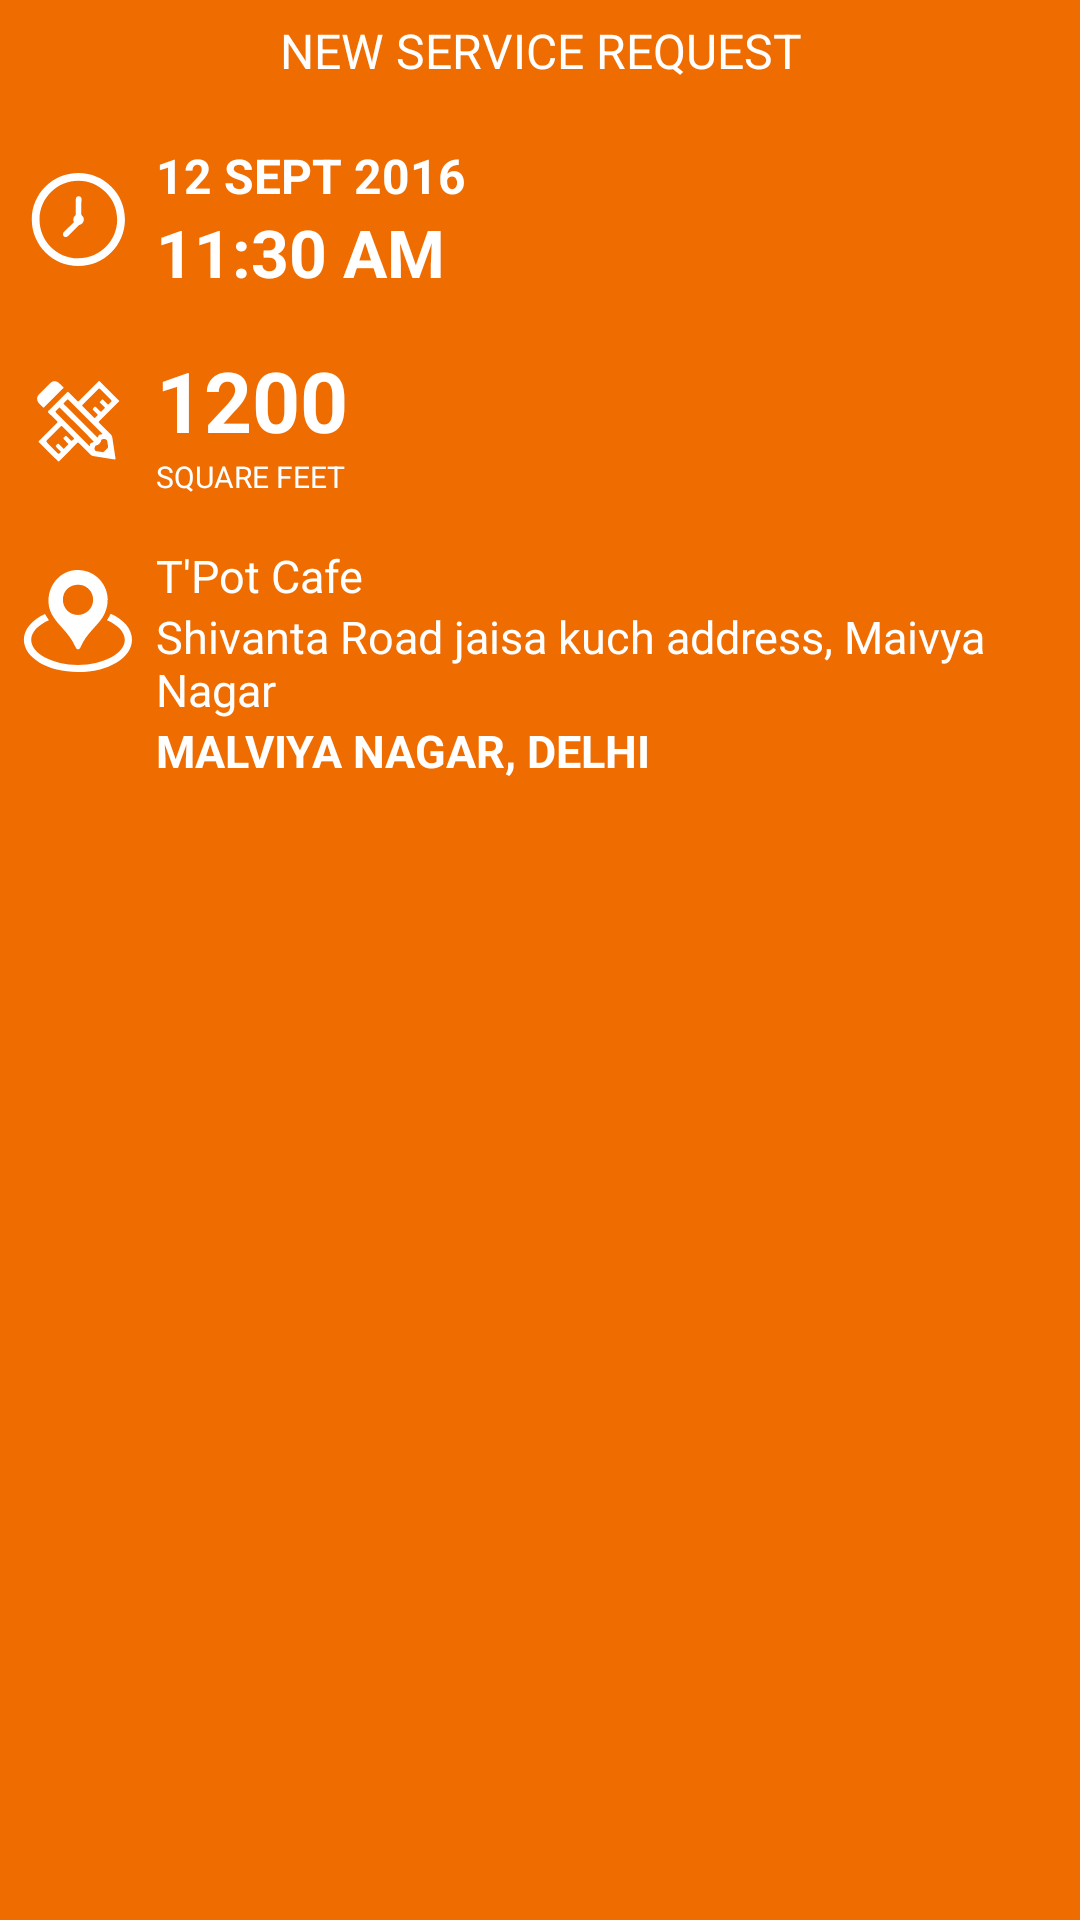

Locate icon controls on the screen. Image size 1080*1920, boxes as (x1, y1, x2, y2).
Area Icon: (37, 381, 119, 462)
Clock Icon: (31, 173, 125, 266)
Location Icon: (23, 570, 132, 672)
